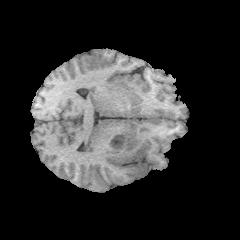glioma: (107, 119, 150, 183)
